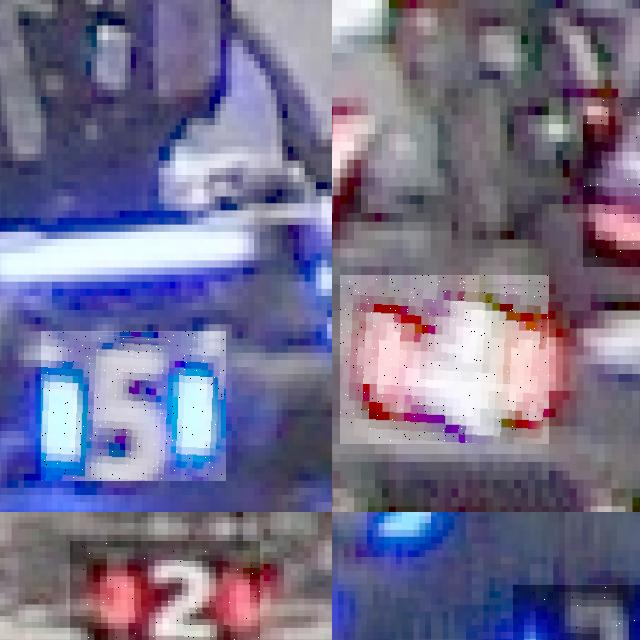B3: (512, 584, 640, 640)
B5: (41, 331, 226, 481)
R2: (69, 540, 260, 640)
R4: (340, 275, 549, 444), (583, 97, 640, 266)
